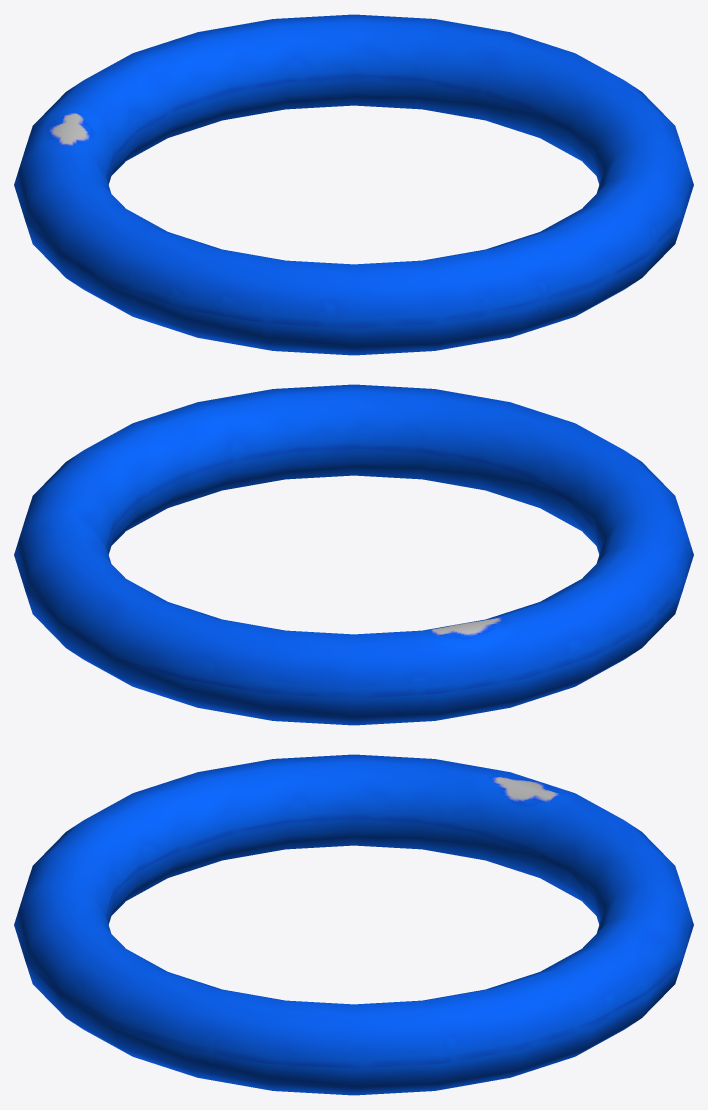
Rendered from PoolTossGame01_3.FBX.
3 views of the same model, one above another, from view 1: azimuth 30°, elevation 25°; view 2: azimuth 150°, elevation 25°; view 3: azimuth 270°, elevation 25° (orthographic).
Parts seen in each view (by area): view 1: PoolTossGame01_3; view 2: PoolTossGame01_3; view 3: PoolTossGame01_3.
Part boxes in pixels (bbox=[...]): PoolTossGame01_3: bbox=[14, 14, 693, 355]; PoolTossGame01_3: bbox=[14, 384, 693, 725]; PoolTossGame01_3: bbox=[14, 754, 693, 1095].
Size of what is drawn, in the model's own units: 0.3667 by 0.0496 by 0.3667.
